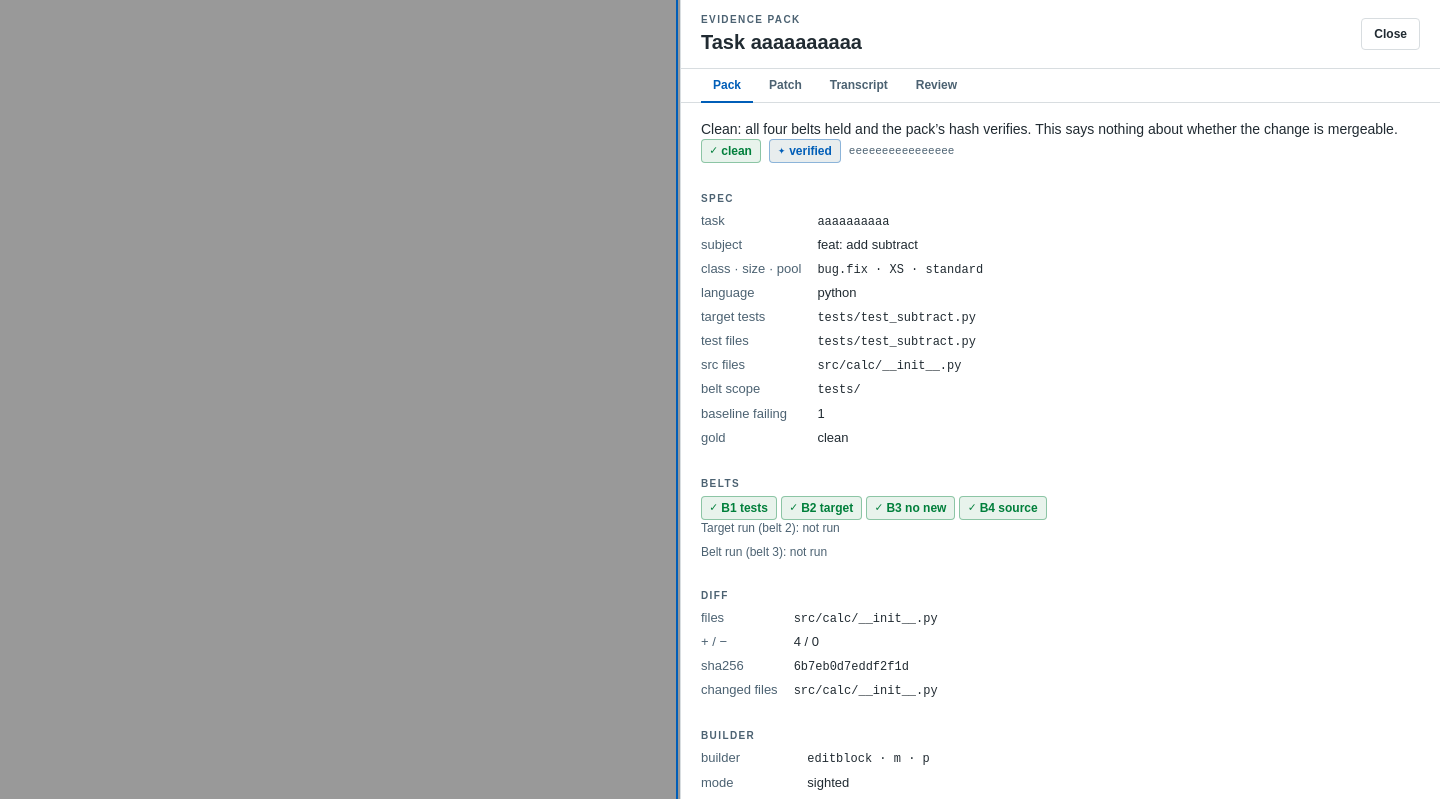
EvidenceDrawer: Patch tab › warns when the served bytes do not hash to the pack (redacted)
The width and height of the screenshot is (1440, 799).
Click the tab with test id "tab-patch". click: (785, 86)
box: [757, 68, 814, 102]
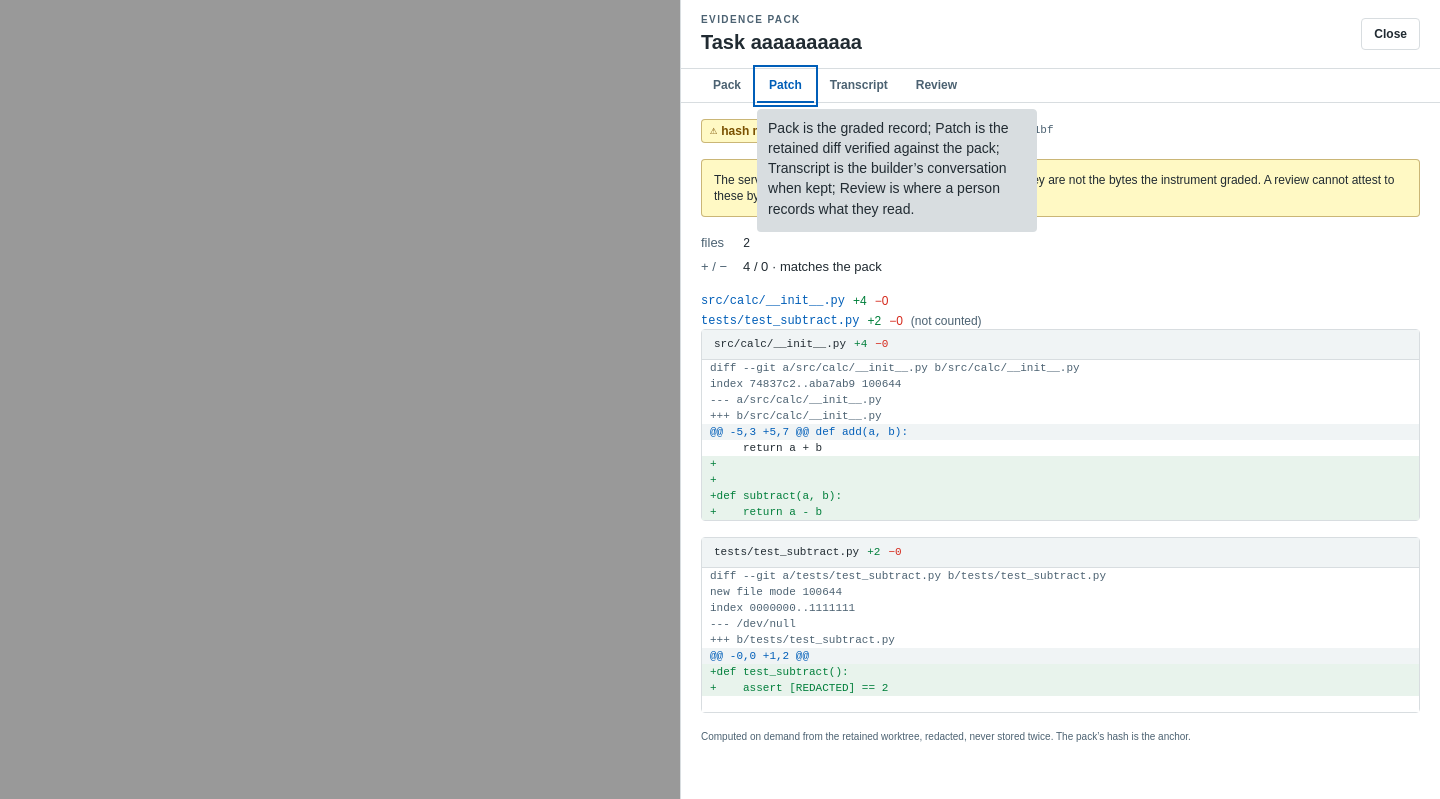
Check: the picture with test id "patch-mismatch" is shown, box [701, 118, 818, 142]
Check: the picture with test id "patch-redacted" is shown, box [826, 120, 894, 140]
Check: the message with test id "patch-warning" shows "redacted", box [714, 172, 1264, 186]
